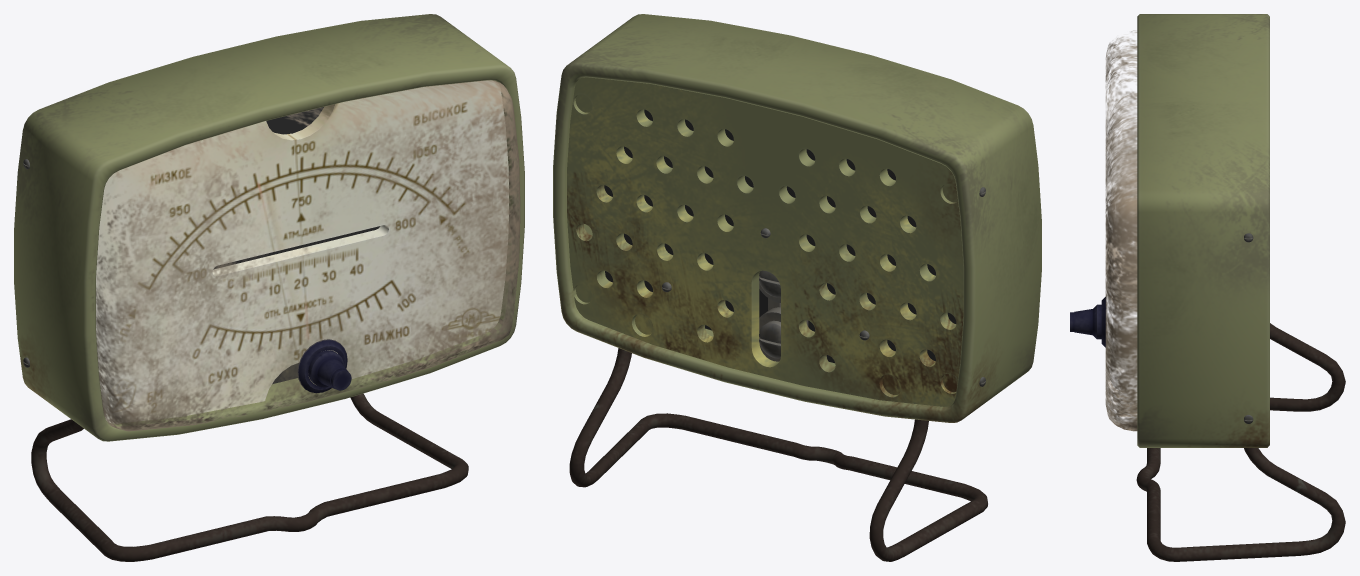
The model's file is barometer.glb.
3 views of the same model, side by side, from view 1: azimuth 30°, elevation 25°; view 2: azimuth 150°, elevation 25°; view 3: azimuth 270°, elevation 25° (orthographic). The views are drawn at different scales.
Visible parts, largest first — view 1: Object_2; view 2: Object_2; view 3: Object_2.
Part boxes in pixels (left/top/right/bottom): Object_2: left=14, top=14, right=524, bottom=561; Object_2: left=553, top=14, right=1041, bottom=561; Object_2: left=1070, top=14, right=1345, bottom=561.
Size of the model in its own units: 7.96 by 7.49 by 4.71.
Materials: 1 (1 with a texture image).
